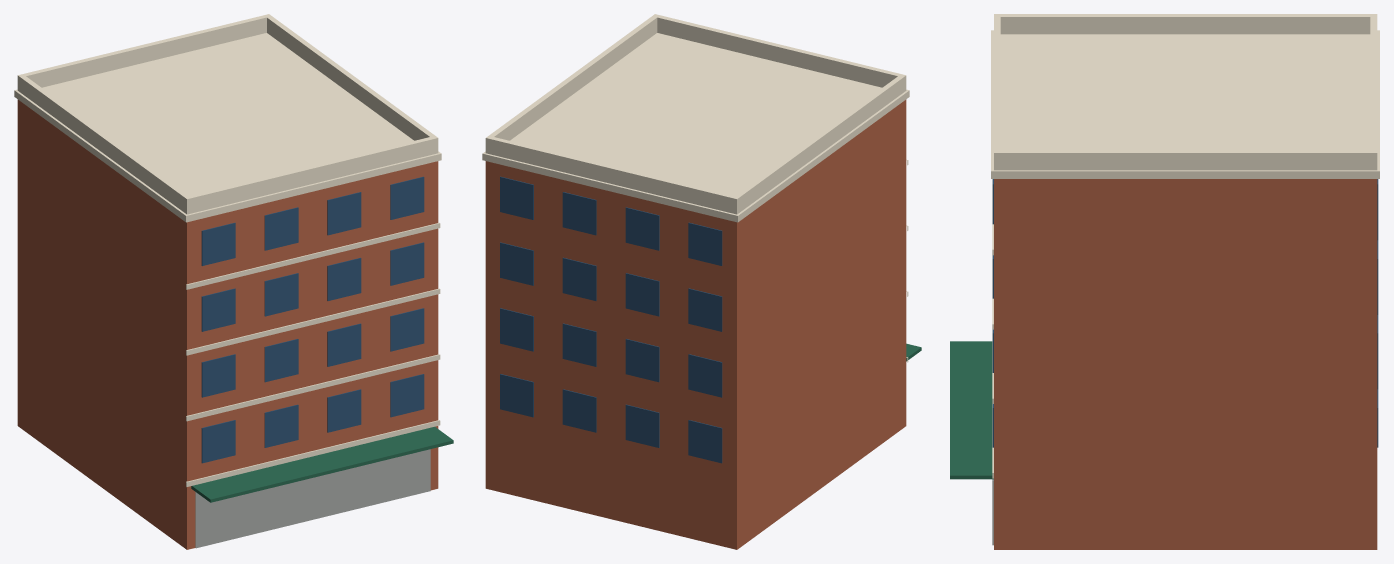
File: bld_dt_office_b.glb
3 renders of one model, left to right at view 1: azimuth 30°, elevation 25°; view 2: azimuth 150°, elevation 25°; view 3: azimuth 270°, elevation 25°, orthographic. The views are drawn at different scales.
Parts seen in each view (by area): view 1: bld_dt_office_b; view 2: bld_dt_office_b; view 3: bld_dt_office_b.
Boxes of the visible parts, left/top/right/bottom form: bld_dt_office_b: left=14, top=14, right=453, bottom=549; bld_dt_office_b: left=482, top=14, right=921, bottom=549; bld_dt_office_b: left=950, top=14, right=1379, bottom=549.
Size of what is drawn, in the model's own units: 12.2 by 16 by 15.7.
